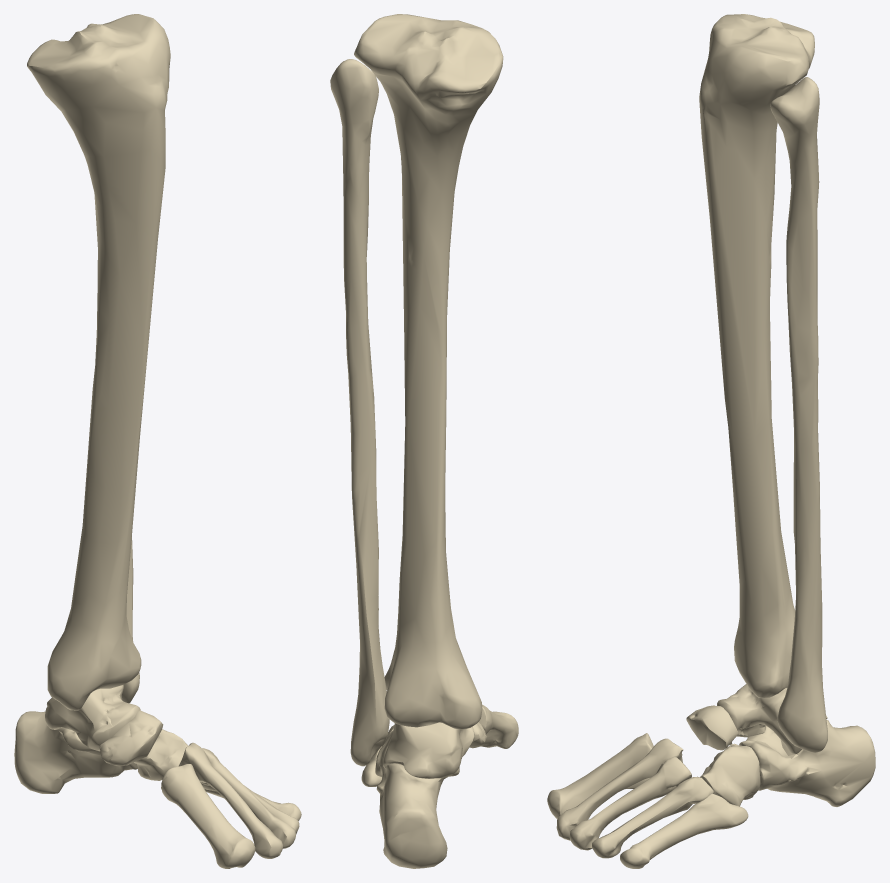
Rendered from ankleb.glb.
3 views of the same model, side by side, from view 1: azimuth 30°, elevation 25°; view 2: azimuth 150°, elevation 25°; view 3: azimuth 270°, elevation 25° (orthographic). The views are drawn at different scales.
Visible parts, largest first — view 1: left tibia, left calcaneus, left first metatarsal bone, left talus, left second metatarsal bone, navicular bone of left foot, left third metatarsal bone, left cuboid bone, left fibula; view 2: left tibia, left fibula, left calcaneus, left talus, left first metatarsal bone, left fifth metatarsal bone; view 3: left tibia, left fibula, left calcaneus, left fifth metatarsal bone, left third metatarsal bone, left second metatarsal bone, left fourth metatarsal bone, left first metatarsal bone, left cuboid bone, left talus, navicular bone of left foot.
Part boxes in pixels (x1,y1,x2,y2): left tibia: (27,14,170,710); left calcaneus: (14,711,137,793); left first metatarsal bone: (161,764,255,868); left talus: (45,685,140,751); left second metatarsal bone: (179,742,282,858); navicular bone of left foot: (99,710,163,765); left third metatarsal bone: (200,748,295,848); left cuboid bone: (134,729,188,780); left fibula: (122,537,139,703); left tibia: (354,14,503,729); left fibula: (330,59,389,766); left calcaneus: (376,745,459,868); left talus: (383,722,474,778); left first metatarsal bone: (479,704,518,748); left fifth metatarsal bone: (361,746,381,786); left tibia: (699,14,814,697); left fibula: (770,77,827,752); left calcaneus: (739,720,875,806); left fifth metatarsal bone: (620,793,748,868); left third metatarsal bone: (569,757,691,850); left second metatarsal bone: (556,738,683,840); left fourth metatarsal bone: (592,776,713,858); left first metatarsal bone: (547,733,653,819); left cuboid bone: (700,743,760,806); left talus: (717,684,827,754); navicular bone of left foot: (686,705,738,750).
Bounding box in the file's own units: 0.1173 × 0.4437 × 0.168.
